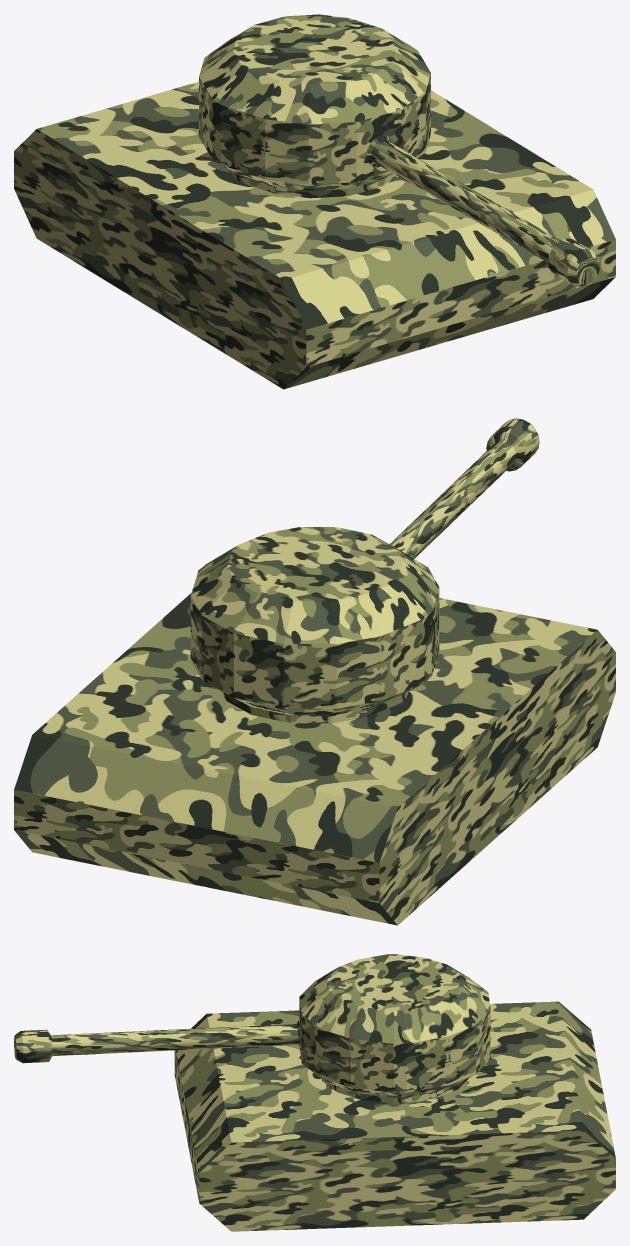
File: Tank.fbx
The picture shows the model from 3 angles, top to bottom: view 1: azimuth 30°, elevation 25°; view 2: azimuth 150°, elevation 25°; view 3: azimuth 270°, elevation 25°; orthographic projection. The views are drawn at different scales.
Visible parts, largest first — view 1: Корпус, Башня, Ствол; view 2: Корпус, Башня, Ствол; view 3: Корпус, Башня, Ствол.
Boxes of the visible parts, <box> form: Корпус: <box>14,81,615,389</box>; Башня: <box>199,14,430,198</box>; Ствол: <box>366,135,599,286</box>; Корпус: <box>14,593,615,925</box>; Башня: <box>190,527,439,723</box>; Ствол: <box>390,418,539,558</box>; Корпус: <box>174,1001,615,1231</box>; Башня: <box>299,954,490,1103</box>; Ствол: <box>14,1020,300,1063</box>.
Size of the model in its own units: 65.34 by 37.92 by 116.
Materials: 1 (1 with a texture image).
